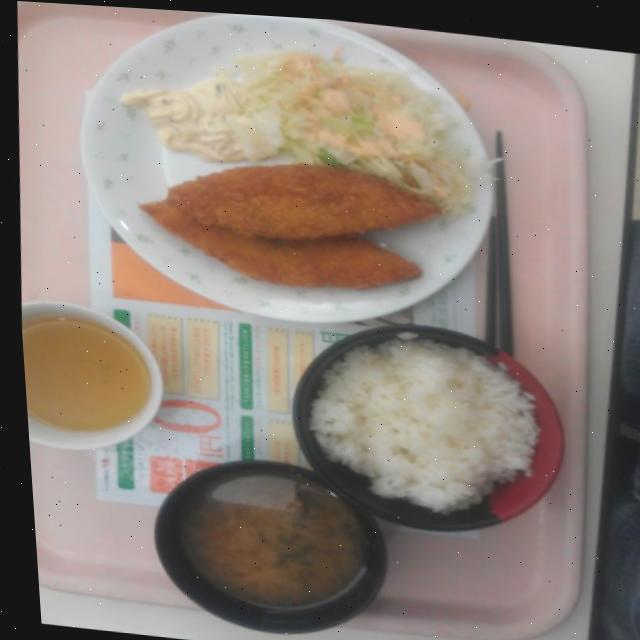炸货点心: (124, 115, 447, 298)
米饭主食: (272, 316, 590, 543)
